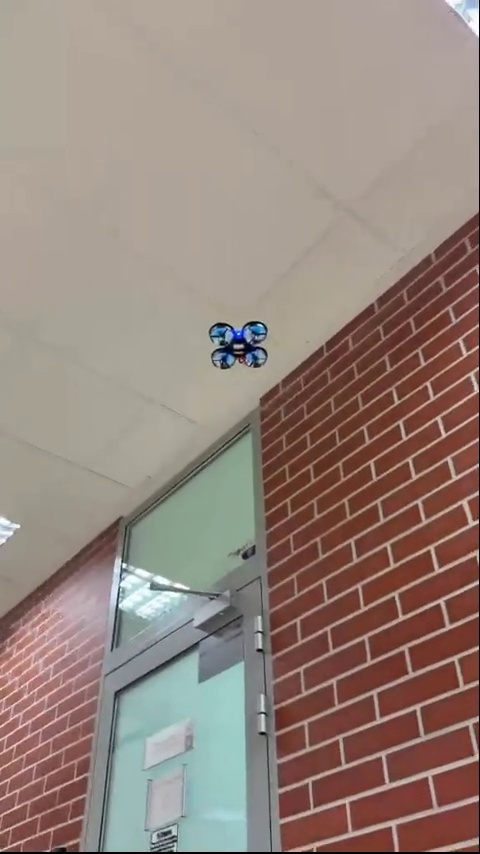drone: (210, 319, 267, 369)
